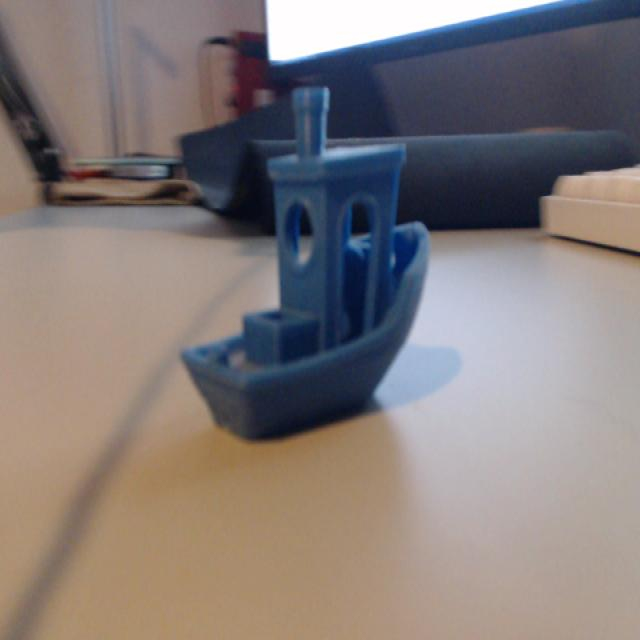benchy: (178, 83, 432, 440)
